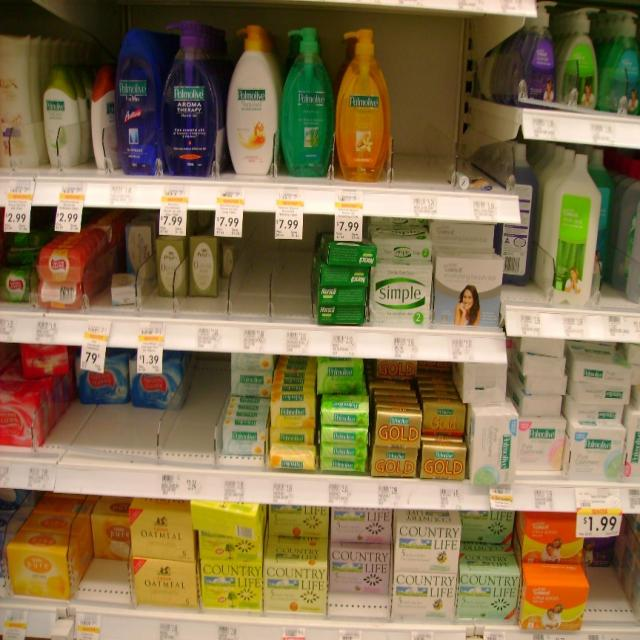q100: (33, 63, 83, 176)
